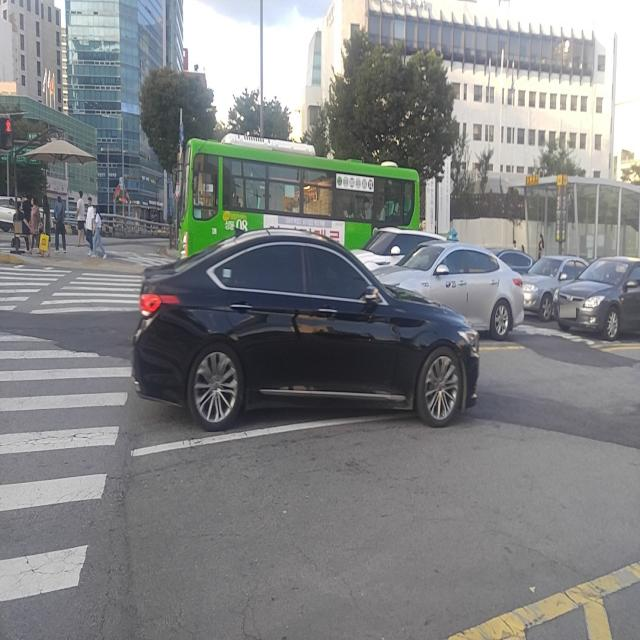빨간불: (0, 117, 14, 150)
횡단보도: (0, 263, 158, 640)
